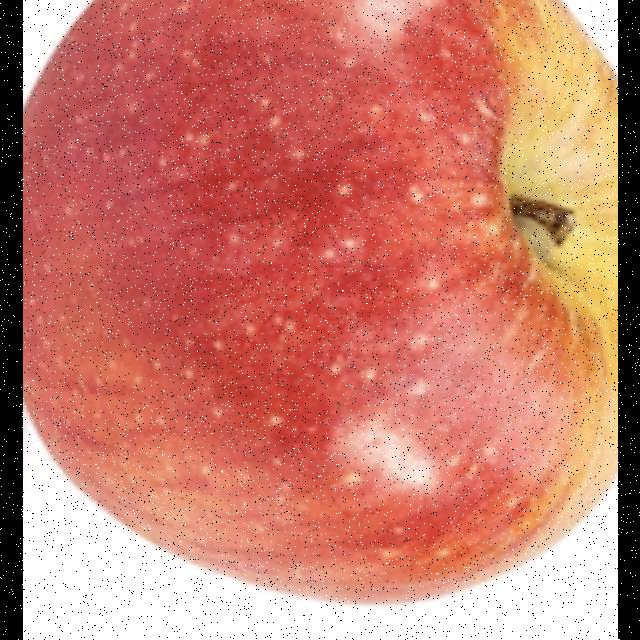Apel Segar: (22, 0, 618, 608)
